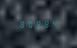eight: (18, 20, 25, 28), (42, 19, 49, 27), (34, 20, 41, 27)
four: (50, 19, 57, 27)
zero: (26, 20, 33, 28)
